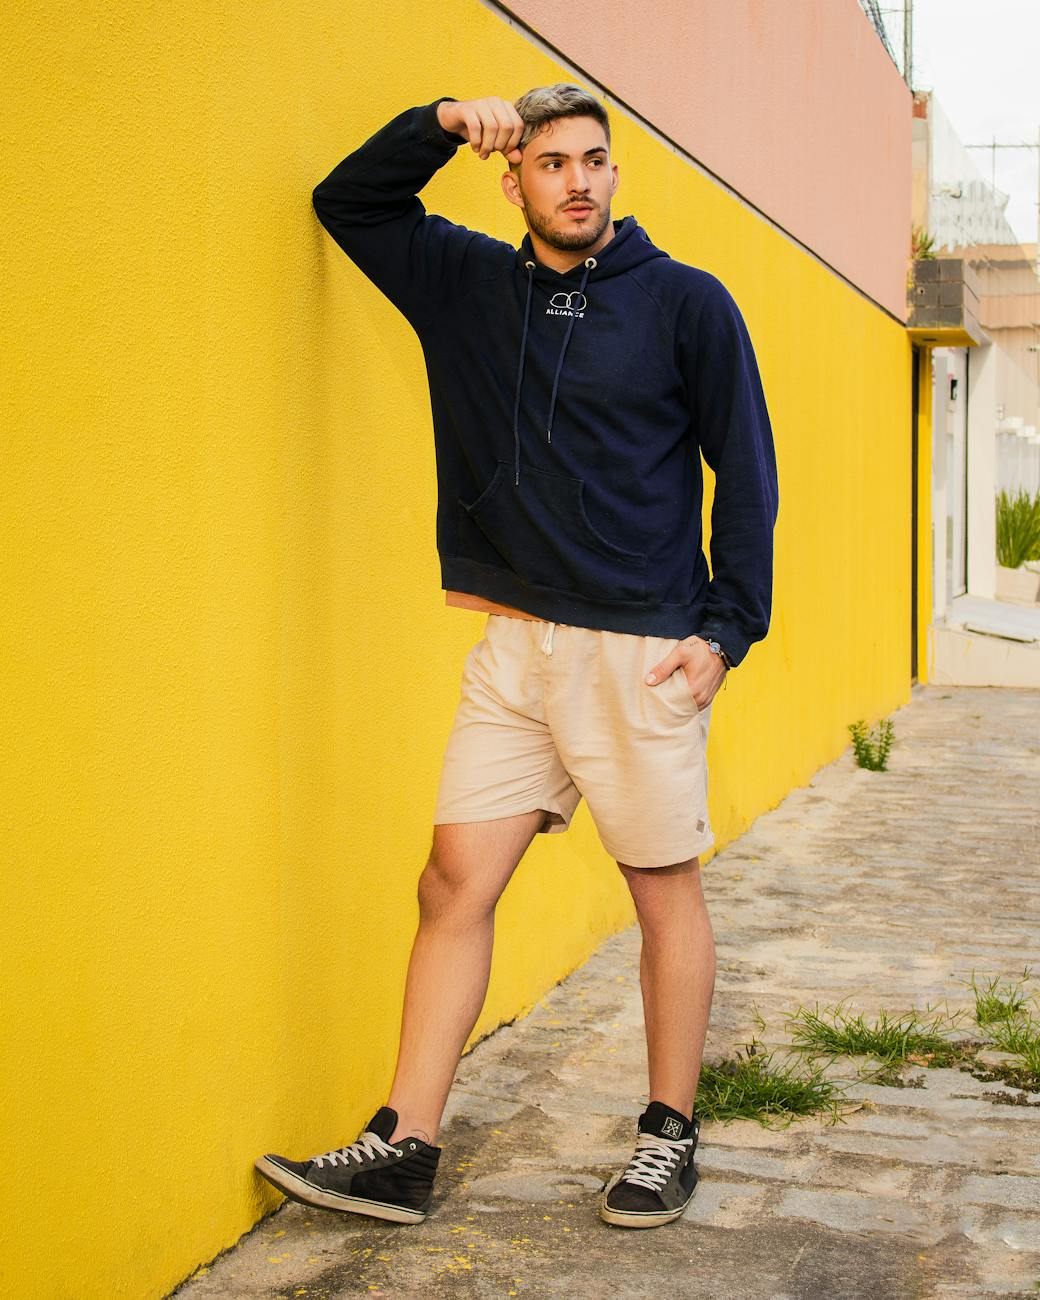shorts: (422, 601, 733, 869)
